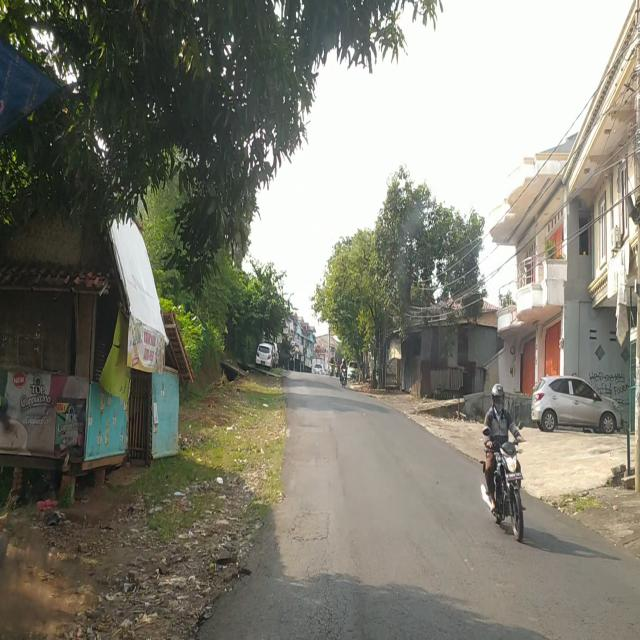Drain Hole: (294, 511, 353, 640)
